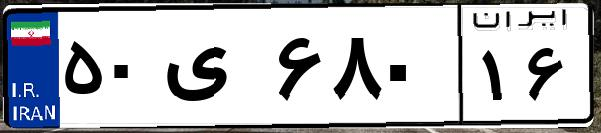0: (385, 28, 445, 110), (110, 28, 158, 98)
1: (475, 38, 525, 113)
5: (57, 26, 110, 100)
6: (270, 28, 330, 110), (525, 38, 570, 115)
8: (330, 28, 385, 110)
ی: (158, 20, 270, 120)
